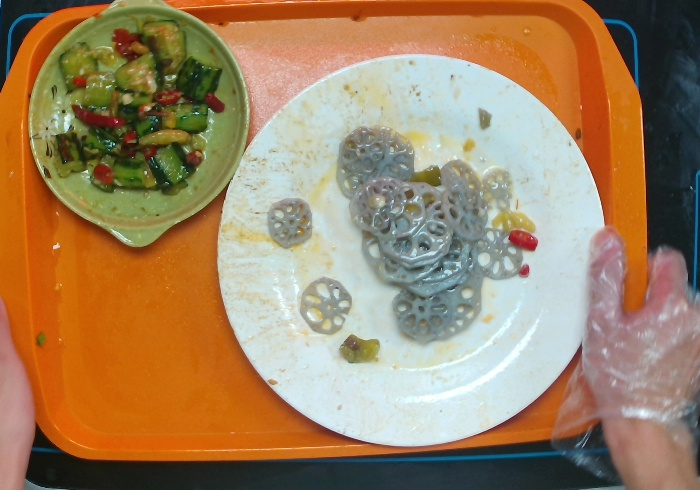NLDX-Da_Yuan_Pan: (213, 46, 607, 449)
NLDX-Lv_Hua_Shuang_Er_Die: (22, 1, 254, 256)
